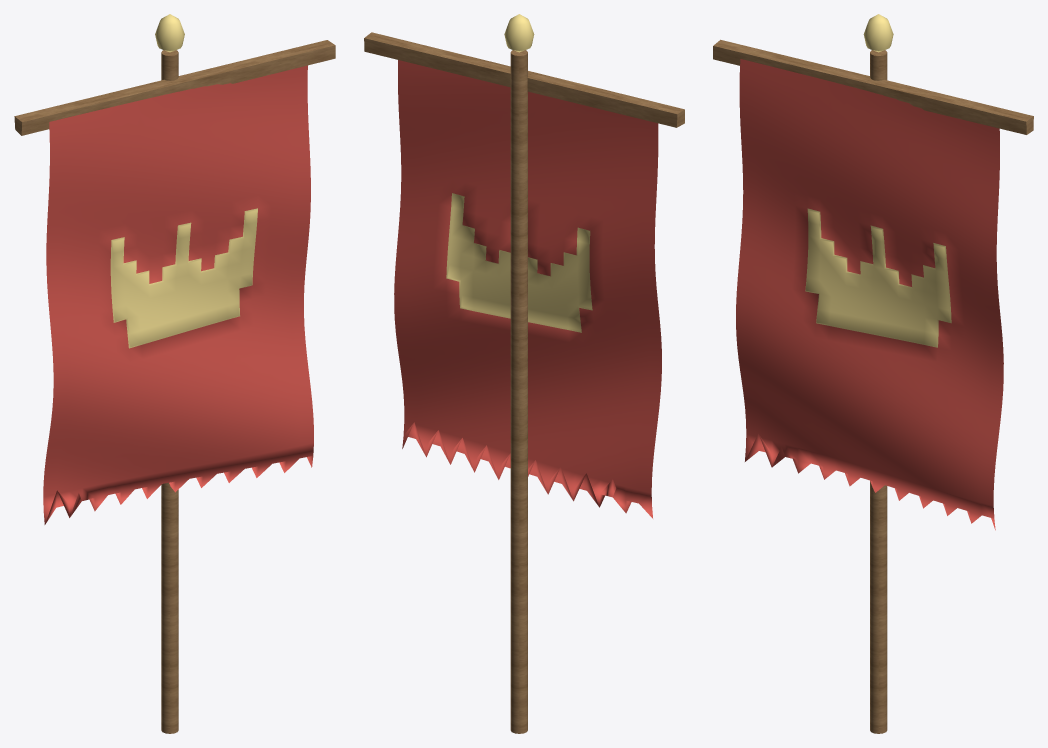
Rendered from Banner.glb.
3 views of the same model, side by side, from view 1: azimuth 30°, elevation 25°; view 2: azimuth 150°, elevation 25°; view 3: azimuth 330°, elevation 25° (orthographic).
Parts seen in each view (by area): view 1: Banner_Cloth, Banner; view 2: Banner_Cloth, Banner; view 3: Banner_Cloth, Banner.
Boxes of the visible parts, x1,y1,x2,y2 form: Banner_Cloth: (43, 65, 313, 524); Banner: (14, 14, 335, 733); Banner_Cloth: (394, 60, 661, 518); Banner: (364, 14, 684, 733); Banner_Cloth: (736, 59, 1003, 530); Banner: (713, 14, 1033, 733).
Bounding box in the file's own units: 1.45 × 3.17 × 0.1764.
3 materials, 1 textured.
